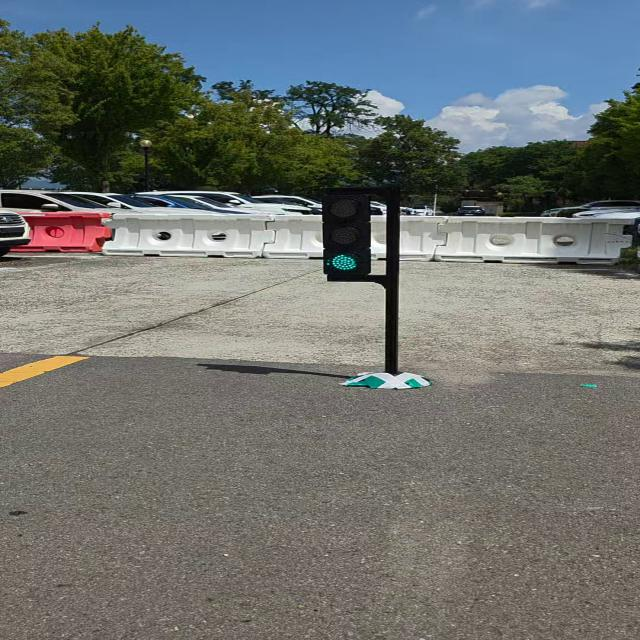green: (324, 192, 370, 280)
